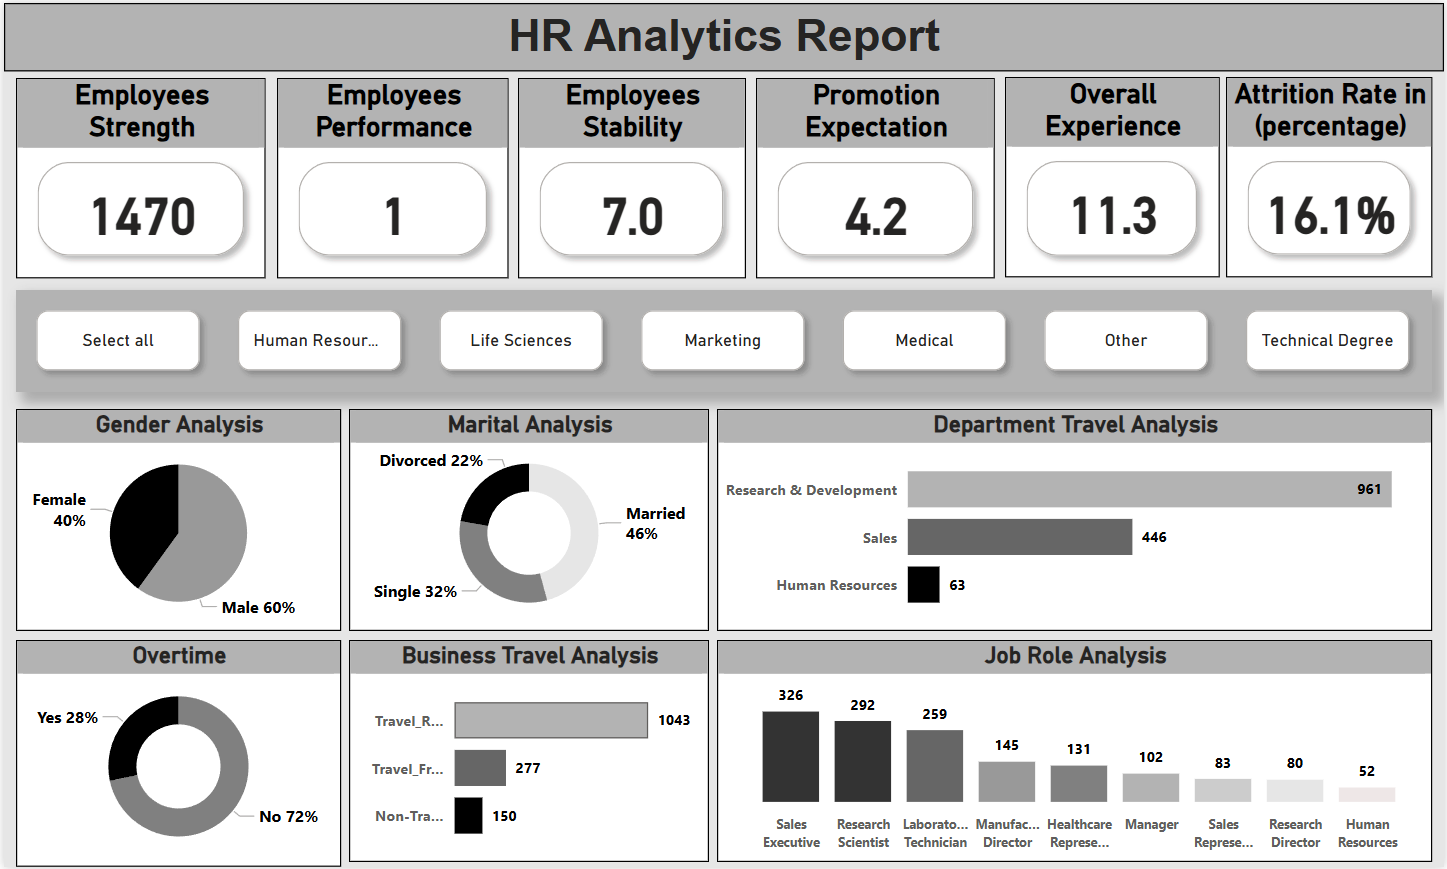

This screenshot's page, from the dashboard's own definition file:
{"tool":"powerbi","page":{"name":"Page 1","canvas":[1200,720],"ordinal":0},"visuals":[{"type":"textbox","box":[0,0,1200,56.6],"z":0},{"type":"cardVisual","title":"Employees Strength","fields":{"Data":["Count(employee.EmployeeNumber)"]},"box":[10.4,62.3,208.5,167],"z":1000},{"type":"cardVisual","title":"Employees Performance","fields":{"Data":["Avg(employee.EmployeeCount)"]},"box":[227.4,62.3,193.4,167],"z":2000},{"type":"cardVisual","title":"Employees Stability","fields":{"Data":["Avg(employee.YearsAtCompany)"]},"box":[428.3,62.3,189.6,167],"z":3000},{"type":"cardVisual","title":"Promotion Expectation","fields":{"Data":["Avg(employee.YearsInCurrentRole)"]},"box":[626.4,62.3,199.1,167],"z":4000},{"type":"cardVisual","title":"Overall Experience","fields":{"Data":["Avg(employee.TotalWorkingYears)"]},"box":[834.2,62.1,178.7,167.4],"z":5000},{"type":"advancedSlicerVisual","fields":{"Values":["employee.EducationField"]},"box":[10.3,238.9,1180.3,84.6],"z":6000},{"type":"pieChart","title":"Gender Analysis","fields":{"Category":["employee.Gender"],"Y":["CountNonNull(employee.Attrition)"]},"box":[10.4,338.7,270.8,184.9],"z":7000},{"type":"donutChart","title":"Overtime","fields":{"Y":["CountNonNull(employee.Attrition)"],"Category":["employee.OverTime"]},"box":[10.4,531.1,270.8,188.7],"z":8000},{"type":"donutChart","title":"Marital Analysis","fields":{"Y":["CountNonNull(employee.Attrition)"],"Category":["employee.MaritalStatus"]},"box":[287.7,338.7,300,184.9],"z":9000},{"type":"barChart","title":"Business Travel Analysis","fields":{"Category":["employee.BusinessTravel"],"Y":["CountNonNull(employee.Attrition)"]},"box":[287.7,531.1,300,184.9],"z":10000},{"type":"barChart","title":"Department Travel Analysis","fields":{"Y":["CountNonNull(employee.Attrition)"],"Category":["employee.Department"]},"box":[594.3,338.7,596.2,184.9],"z":11000},{"type":"columnChart","title":"Job Role Analysis","fields":{"Category":["employee.JobRole"],"Y":["CountNonNull(employee.Attrition)"]},"box":[594.3,531.1,596.2,184.9],"z":12000},{"type":"cardVisual","title":"Attrition  Rate in (percentage)","fields":{"Data":["employee.Attrition Rate"]},"box":[1018,62,172.5,166.6],"z":13000}]}

Visuals, with their boxes in screenshot pixels (x1, y1, x2, y2), scaled from the page's 1200x720 canvas onto the 1447x869 screenshot:
textbox: bbox=[0, 0, 1446, 68]
"Employees Strength" cardVisual: bbox=[13, 75, 264, 277]
"Employees Performance" cardVisual: bbox=[274, 75, 507, 277]
"Employees Stability" cardVisual: bbox=[516, 75, 745, 277]
"Promotion Expectation" cardVisual: bbox=[755, 75, 995, 277]
"Overall Experience" cardVisual: bbox=[1006, 75, 1221, 277]
advancedSlicerVisual - employee.EducationField: bbox=[12, 288, 1436, 390]
"Gender Analysis" pieChart: bbox=[13, 409, 339, 632]
"Overtime" donutChart: bbox=[13, 641, 339, 868]
"Marital Analysis" donutChart: bbox=[347, 409, 709, 632]
"Business Travel Analysis" barChart: bbox=[347, 641, 709, 864]
"Department Travel Analysis" barChart: bbox=[717, 409, 1436, 632]
"Job Role Analysis" columnChart: bbox=[717, 641, 1436, 864]
"Attrition  Rate in (percentage)" cardVisual: bbox=[1228, 75, 1436, 276]
